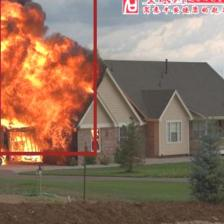fire: (0, 0, 96, 154)
